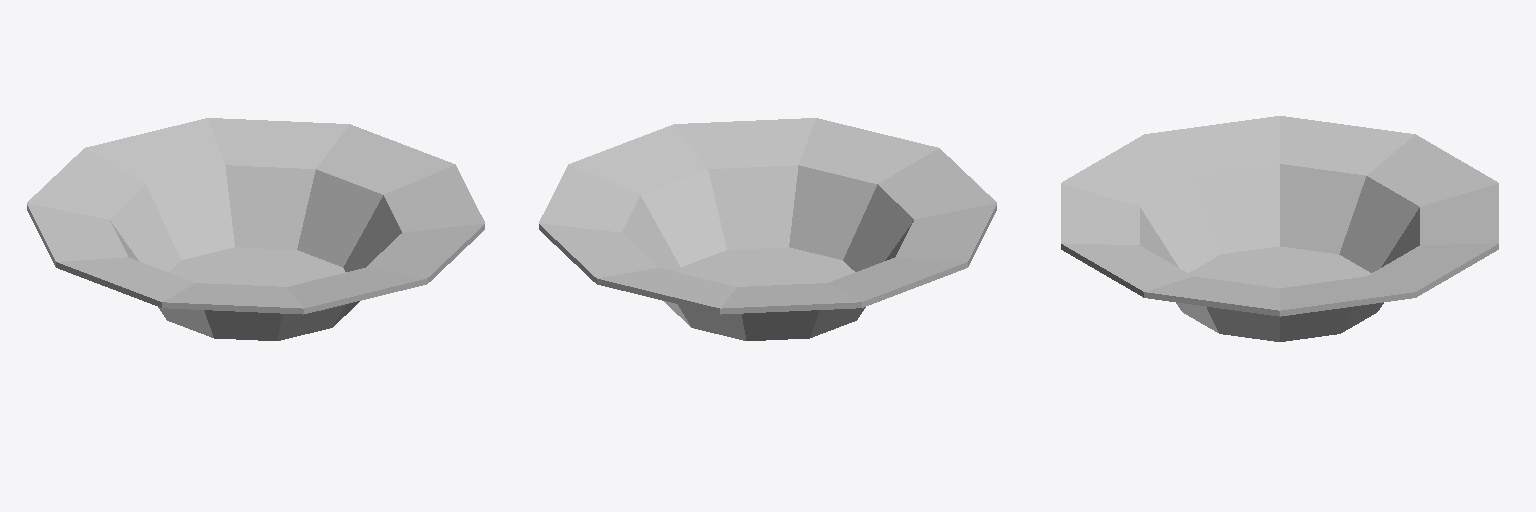
The model's file is bowl.obj.
3 views of the same model, side by side, from view 1: azimuth 30°, elevation 25°; view 2: azimuth 150°, elevation 25°; view 3: azimuth 270°, elevation 25° (orthographic).
Visible parts, largest first — view 1: Bowl1; view 2: Bowl1; view 3: Bowl1.
Boxes of the visible parts, box(x1,y1,x2,y2) form: Bowl1: box(27, 118, 484, 340); Bowl1: box(539, 118, 996, 340); Bowl1: box(1061, 116, 1498, 341).
Bounding box in the file's own units: 1.66 × 0.3405 × 1.58.